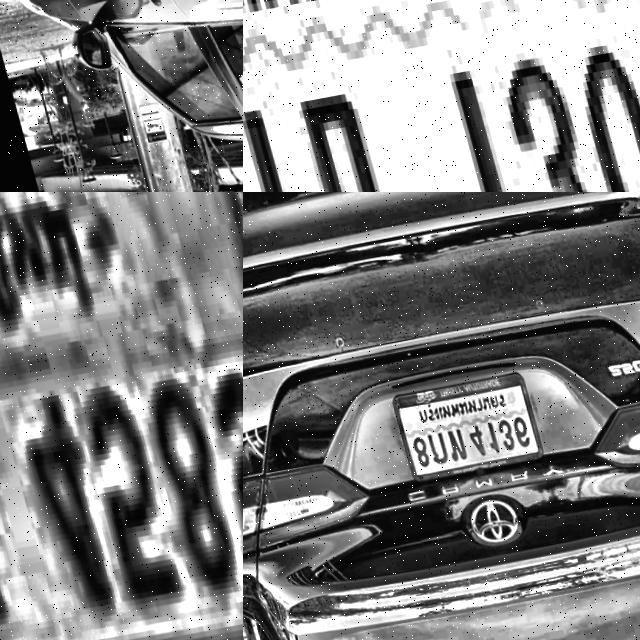license-plate: (0, 192, 243, 640), (243, 0, 640, 192), (381, 368, 540, 483)
